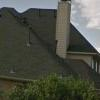Chimney: (53, 1, 70, 63)
